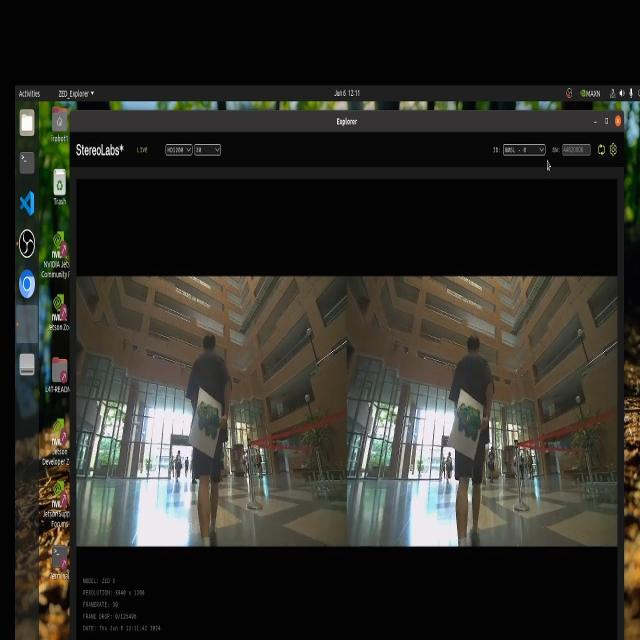green: (453, 401, 487, 441), (193, 398, 223, 436)
